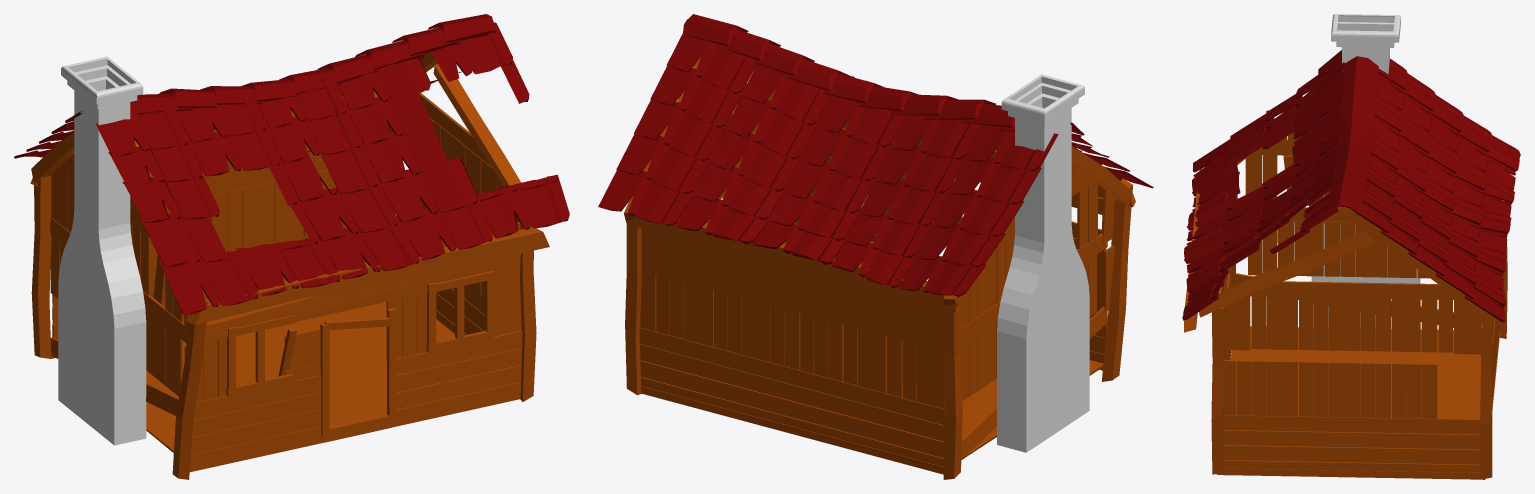
Rendered from House4.fbx.
3 views of the same model, side by side, from view 1: azimuth 30°, elevation 25°; view 2: azimuth 150°, elevation 25°; view 3: azimuth 270°, elevation 25° (orthographic). The views are drawn at different scales.
Visible parts, largest first — view 1: Cube.036, Cube.049, low poly.245, LOW 1.028, Cube.048, Cube.042, low poly.215, Cube.040, Cube.038, Cube.045, low poly.028, low poly.027 (+29 smaller); view 2: Cube.037, Cube.049, Cube.048, low poly.242, low poly.024, low poly.026, low poly.025, low poly.241, low poly.216, Cube.047, low poly.243, Cube.038 (+33 smaller); view 3: Cube.037, Cube.036, low poly.245, Cube.048, low poly.154, low poly.156, low poly.155, Cube.049, low poly.114, LOW 1.043, Cube.045, Cube.039 (+48 smaller).
Part boxes in pixels (x1,y1,x2,y2): Cube.036: [95, 22, 569, 315]; Cube.049: [58, 56, 146, 445]; low poly.245: [52, 298, 454, 452]; LOW 1.028: [189, 375, 328, 472]; Cube.048: [130, 14, 496, 116]; Cube.042: [185, 227, 549, 324]; low poly.215: [204, 253, 520, 343]; Cube.040: [31, 175, 51, 358]; Cube.038: [172, 300, 208, 479]; Cube.045: [433, 64, 531, 227]; low poly.028: [389, 382, 520, 427]; low poly.027: [396, 365, 521, 409]; Cube.037: [598, 31, 1058, 296]; Cube.049: [997, 74, 1089, 452]; Cube.048: [683, 14, 1014, 132]; low poly.242: [641, 238, 943, 335]; low poly.024: [640, 360, 944, 457]; low poly.026: [639, 327, 945, 425]; low poly.025: [640, 344, 944, 441]; low poly.241: [641, 255, 943, 351]; low poly.216: [641, 377, 944, 474]; Cube.047: [632, 217, 958, 312]; low poly.243: [641, 228, 943, 318]; Cube.038: [1101, 179, 1132, 381]; Cube.037: [1353, 58, 1520, 322]; Cube.036: [1182, 50, 1347, 320]; low poly.245: [1223, 326, 1500, 475]; Cube.048: [1327, 56, 1378, 215]; low poly.154: [1223, 445, 1480, 464]; low poly.156: [1223, 430, 1480, 449]; low poly.155: [1223, 414, 1480, 434]; Cube.049: [1311, 14, 1420, 328]; low poly.114: [1218, 460, 1482, 479]; LOW 1.043: [1247, 281, 1457, 300]; Cube.045: [1199, 231, 1375, 317]; Cube.039: [1211, 307, 1224, 474].
Size of the model in its own units: 1042 by 868 by 857.
